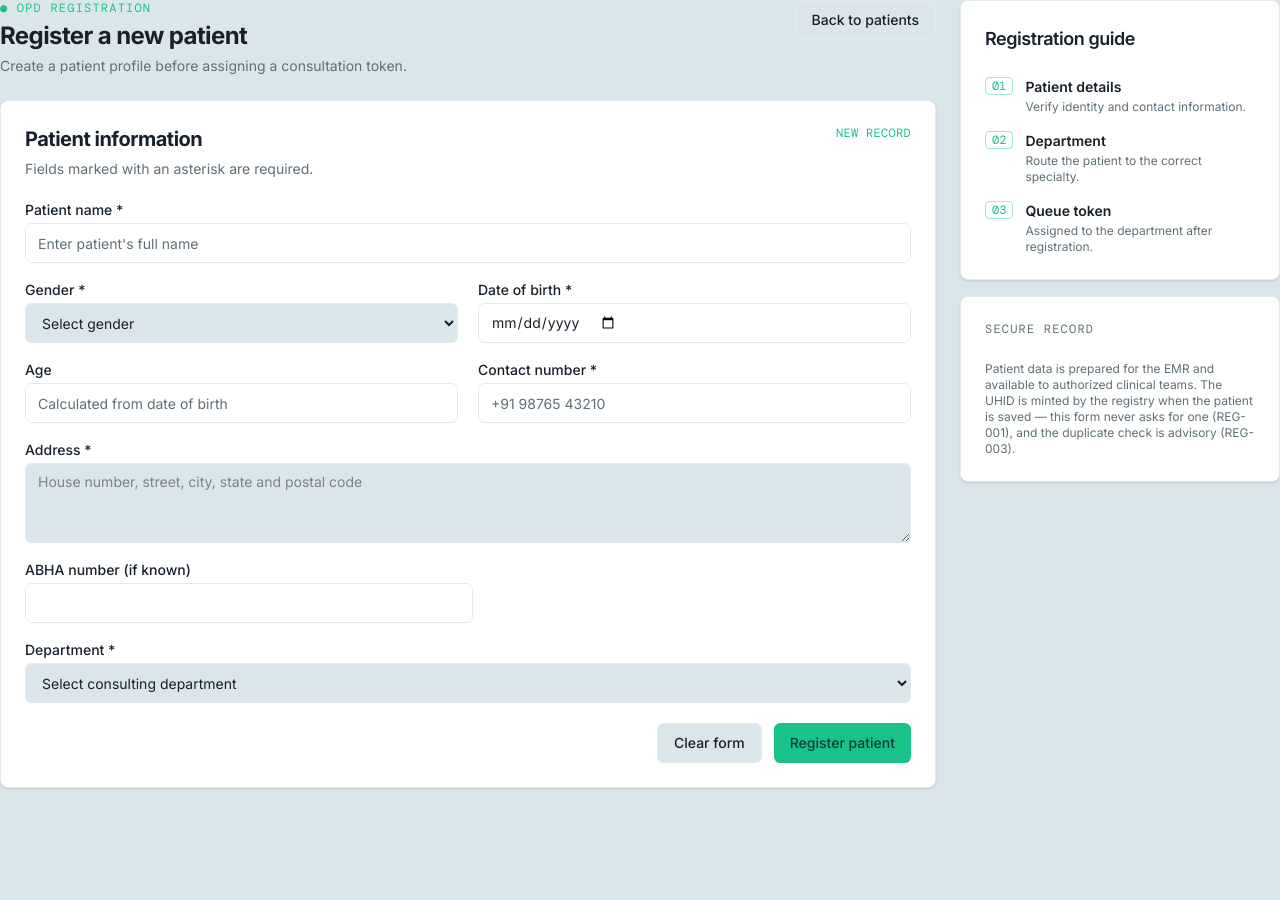
Test case: PatientRegistration › blocks an empty submit, shows the required errors and focuses the first invalid field
The image size is (1280, 900).
Click the button "Register patient": (842, 743) top-left (774, 723), bottom-right (911, 763)
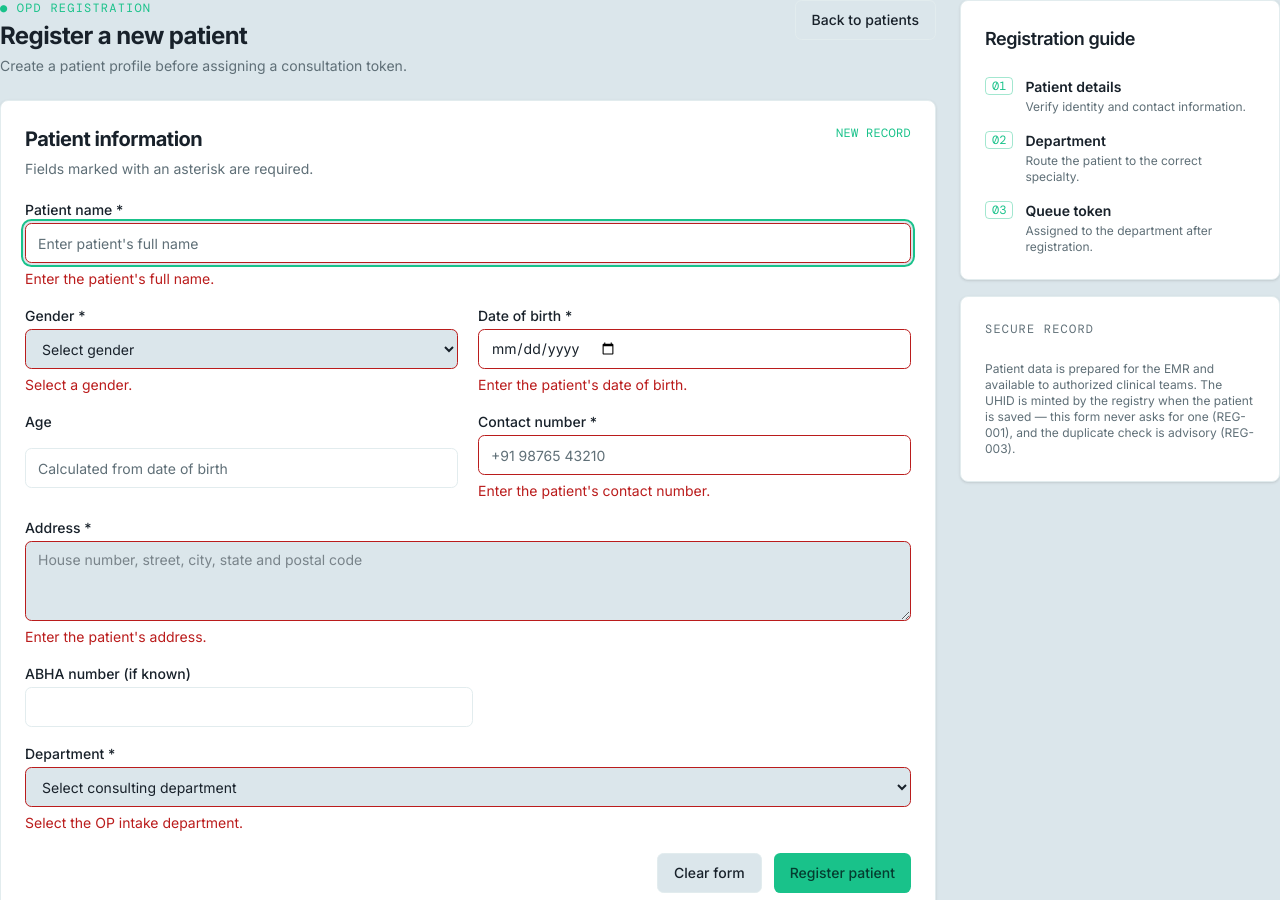
Check: the text "Enter the patient's full name." is shown, box top-left (25, 270), bottom-right (214, 287)
Check: the text "Enter the patient's date of birth." is shown, box top-left (478, 376), bottom-right (687, 393)
Check: the text "Enter the patient's address." is shown, box top-left (25, 628), bottom-right (207, 645)
